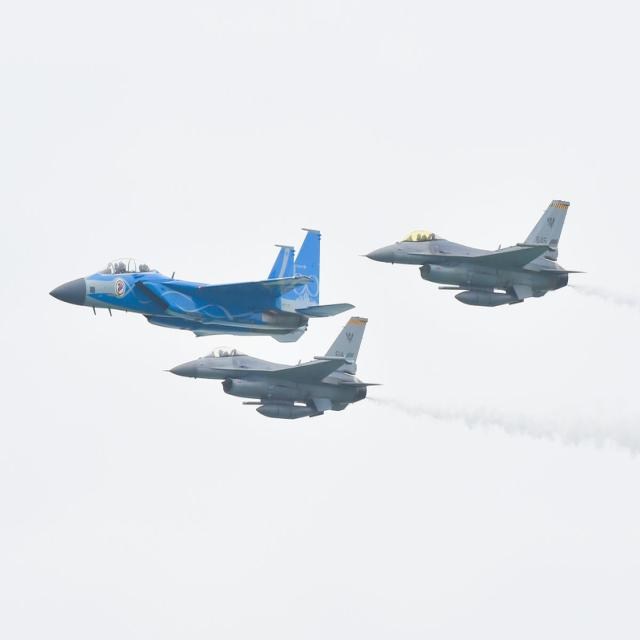MIL_Plane: (48, 227, 356, 343), (358, 198, 588, 308), (162, 316, 384, 420)
